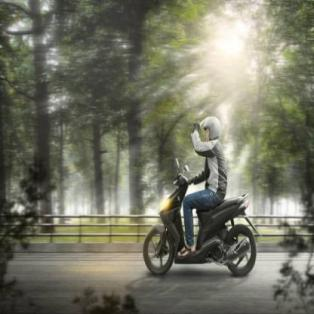Motocicleta: (142, 159, 260, 286)
